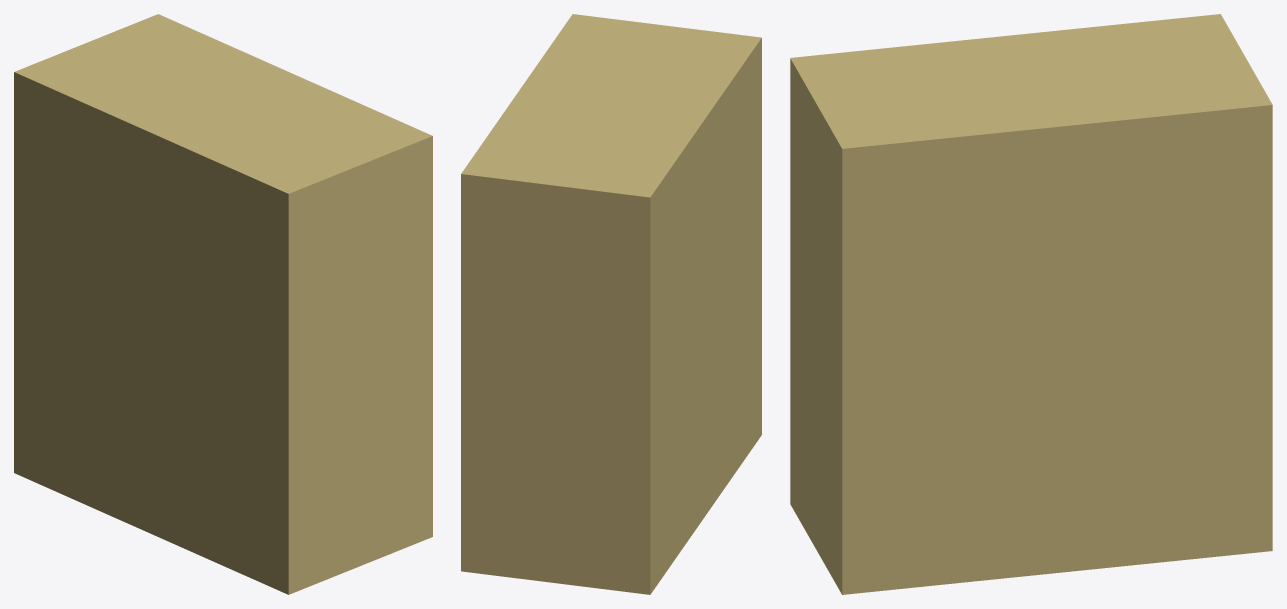
3 views of the same model, side by side, from view 1: azimuth 30°, elevation 25°; view 2: azimuth 150°, elevation 25°; view 3: azimuth 270°, elevation 25° (orthographic). The views are drawn at different scales.
Visible parts, largest first — view 1: GAP-11-HIGH-4; view 2: GAP-11-HIGH-4; view 3: GAP-11-HIGH-4.
Boxes of the visible parts, left/top/right/bottom form: GAP-11-HIGH-4: left=14, top=14, right=432, bottom=594; GAP-11-HIGH-4: left=461, top=14, right=761, bottom=594; GAP-11-HIGH-4: left=790, top=14, right=1272, bottom=594.
Size of the model in its own units: 0.0649 by 0.1 by 0.0981.
